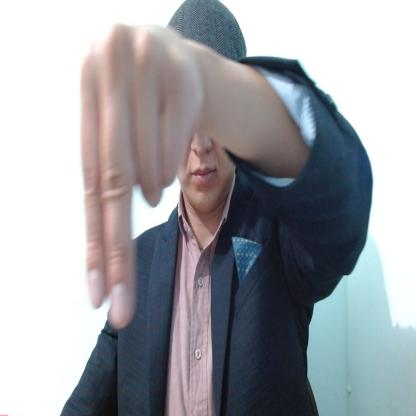N: (78, 23, 201, 330)
